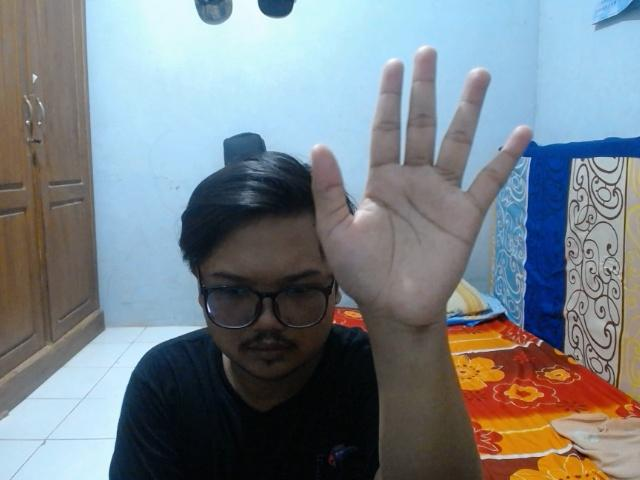Release: (301, 39, 537, 337)
